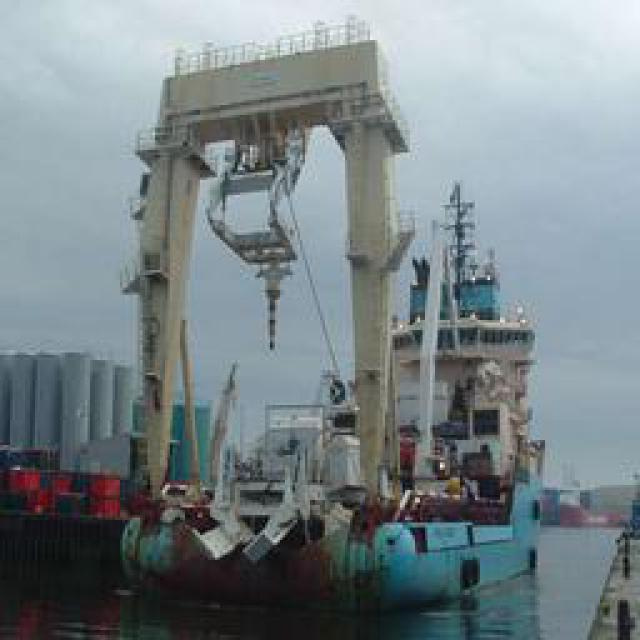Ship: (103, 40, 573, 610)
